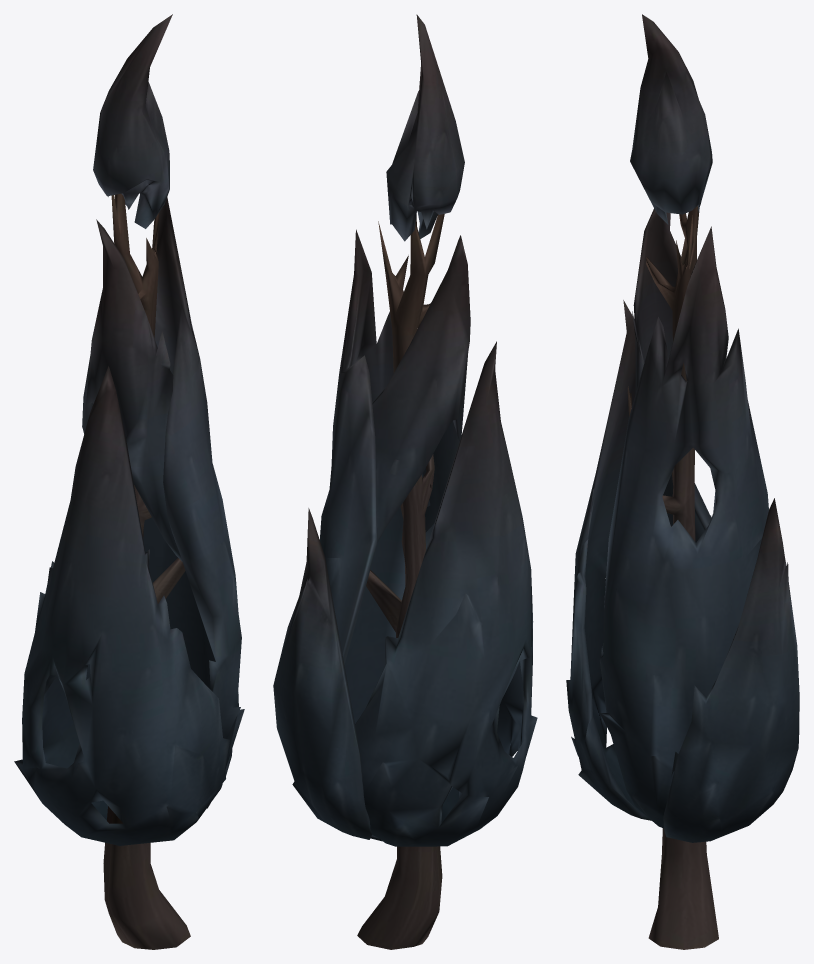
Rendered from molten_firecypress_a_far.glb.
3 views of the same model, side by side, from view 1: azimuth 30°, elevation 25°; view 2: azimuth 150°, elevation 25°; view 3: azimuth 270°, elevation 25° (orthographic). The views are drawn at different scales.
Parts seen in each view (by area): view 1: SM_MLTN_STS_FireCypress_01A; view 2: SM_MLTN_STS_FireCypress_01A; view 3: SM_MLTN_STS_FireCypress_01A.
Boxes of the visible parts, x1,y1,x2,y2 form: SM_MLTN_STS_FireCypress_01A: (14, 14, 244, 949); SM_MLTN_STS_FireCypress_01A: (273, 14, 537, 949); SM_MLTN_STS_FireCypress_01A: (566, 14, 799, 949).
Size of the model in its own units: 3.39 by 14.44 by 3.32.
1 material, 1 textured.
